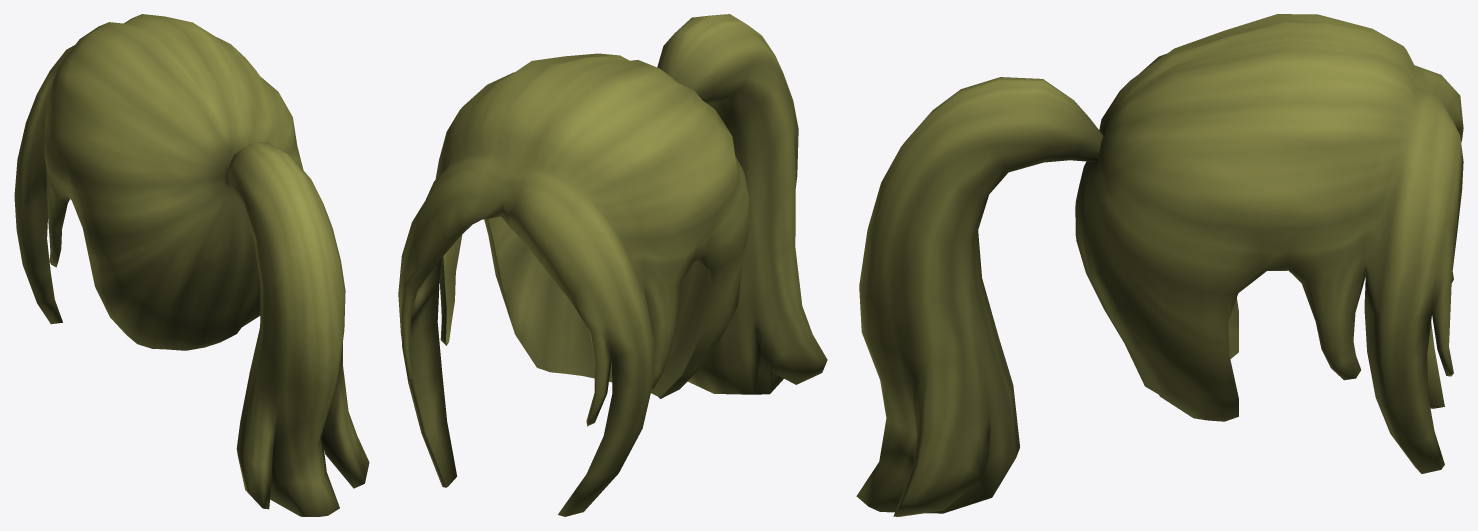
Rendered from Hair_Female_002_textured_yellow.glb.
3 views of the same model, side by side, from view 1: azimuth 30°, elevation 25°; view 2: azimuth 150°, elevation 25°; view 3: azimuth 270°, elevation 25° (orthographic). The views are drawn at different scales.
Parts seen in each view (by area): view 1: Hair_Female_002; view 2: Hair_Female_002; view 3: Hair_Female_002.
Boxes of the visible parts, x1,y1,x2,y2 form: Hair_Female_002: [14, 14, 369, 516]; Hair_Female_002: [398, 14, 827, 516]; Hair_Female_002: [856, 14, 1463, 516].
Size of the model in its own units: 0.1741 by 0.2888 by 0.3351.
Materials: 1 (1 with a texture image).
